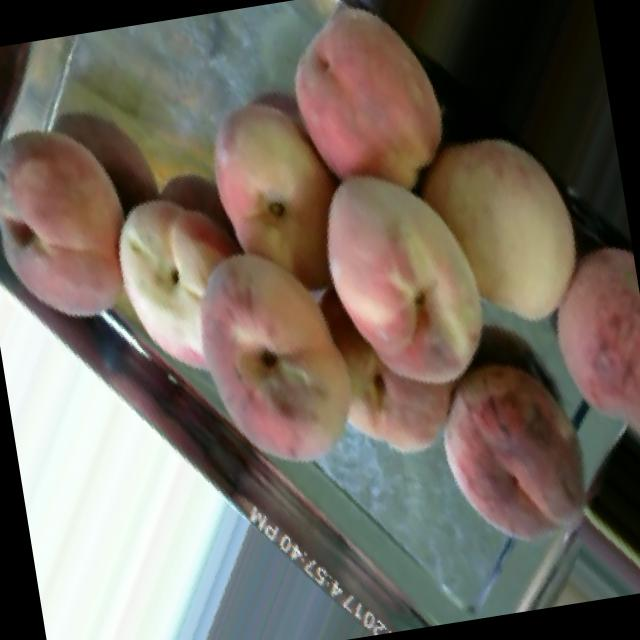Fruit: (152, 210, 422, 503), (284, 132, 521, 424), (401, 325, 630, 581), (398, 110, 628, 362), (169, 65, 380, 328), (253, 0, 468, 228), (0, 93, 169, 358), (511, 217, 640, 500)
